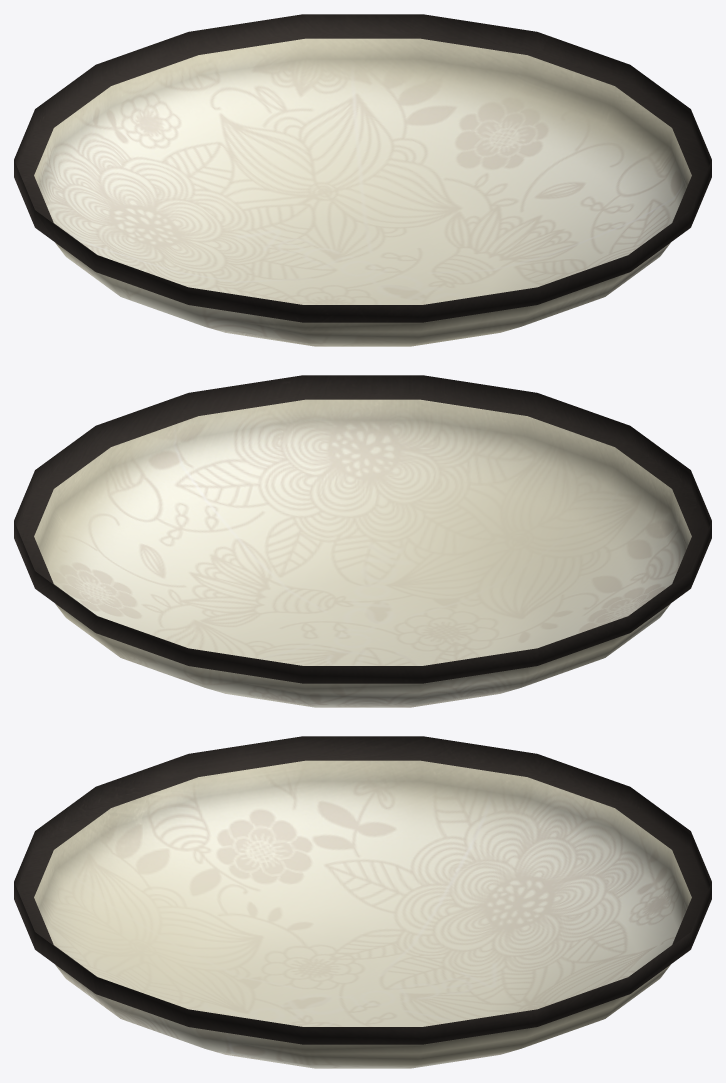
The model's file is FPH_BathCeilingLamp.fbx.
3 renders of one model, top to bottom at view 1: azimuth 30°, elevation 25°; view 2: azimuth 150°, elevation 25°; view 3: azimuth 270°, elevation 25°, orthographic.
Visible parts, largest first — view 1: FPH_CeilingLamp; view 2: FPH_CeilingLamp; view 3: FPH_CeilingLamp.
Part boxes in pixels (x1,y1,x2,y2): FPH_CeilingLamp: (14,14,711,346); FPH_CeilingLamp: (14,375,711,707); FPH_CeilingLamp: (14,736,711,1068).
Size of the model in its own units: 3.03 by 0.5611 by 3.08.
Materials: 1 (1 with a texture image).
